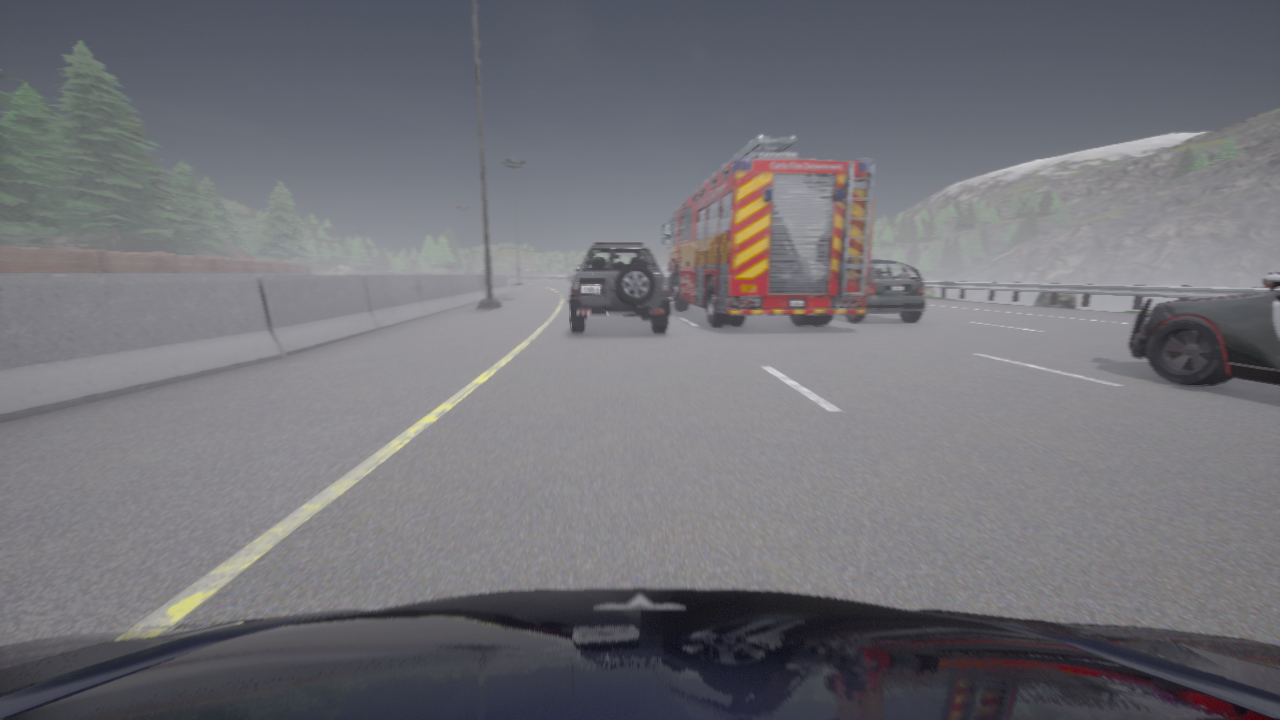cyclist: (0, 588, 1279, 719), (663, 135, 875, 325), (1129, 272, 1279, 384), (570, 242, 670, 333), (846, 260, 924, 321), (566, 270, 577, 281), (572, 274, 574, 284)
